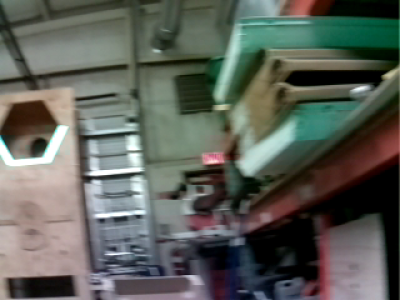target: (1, 124, 68, 166)
